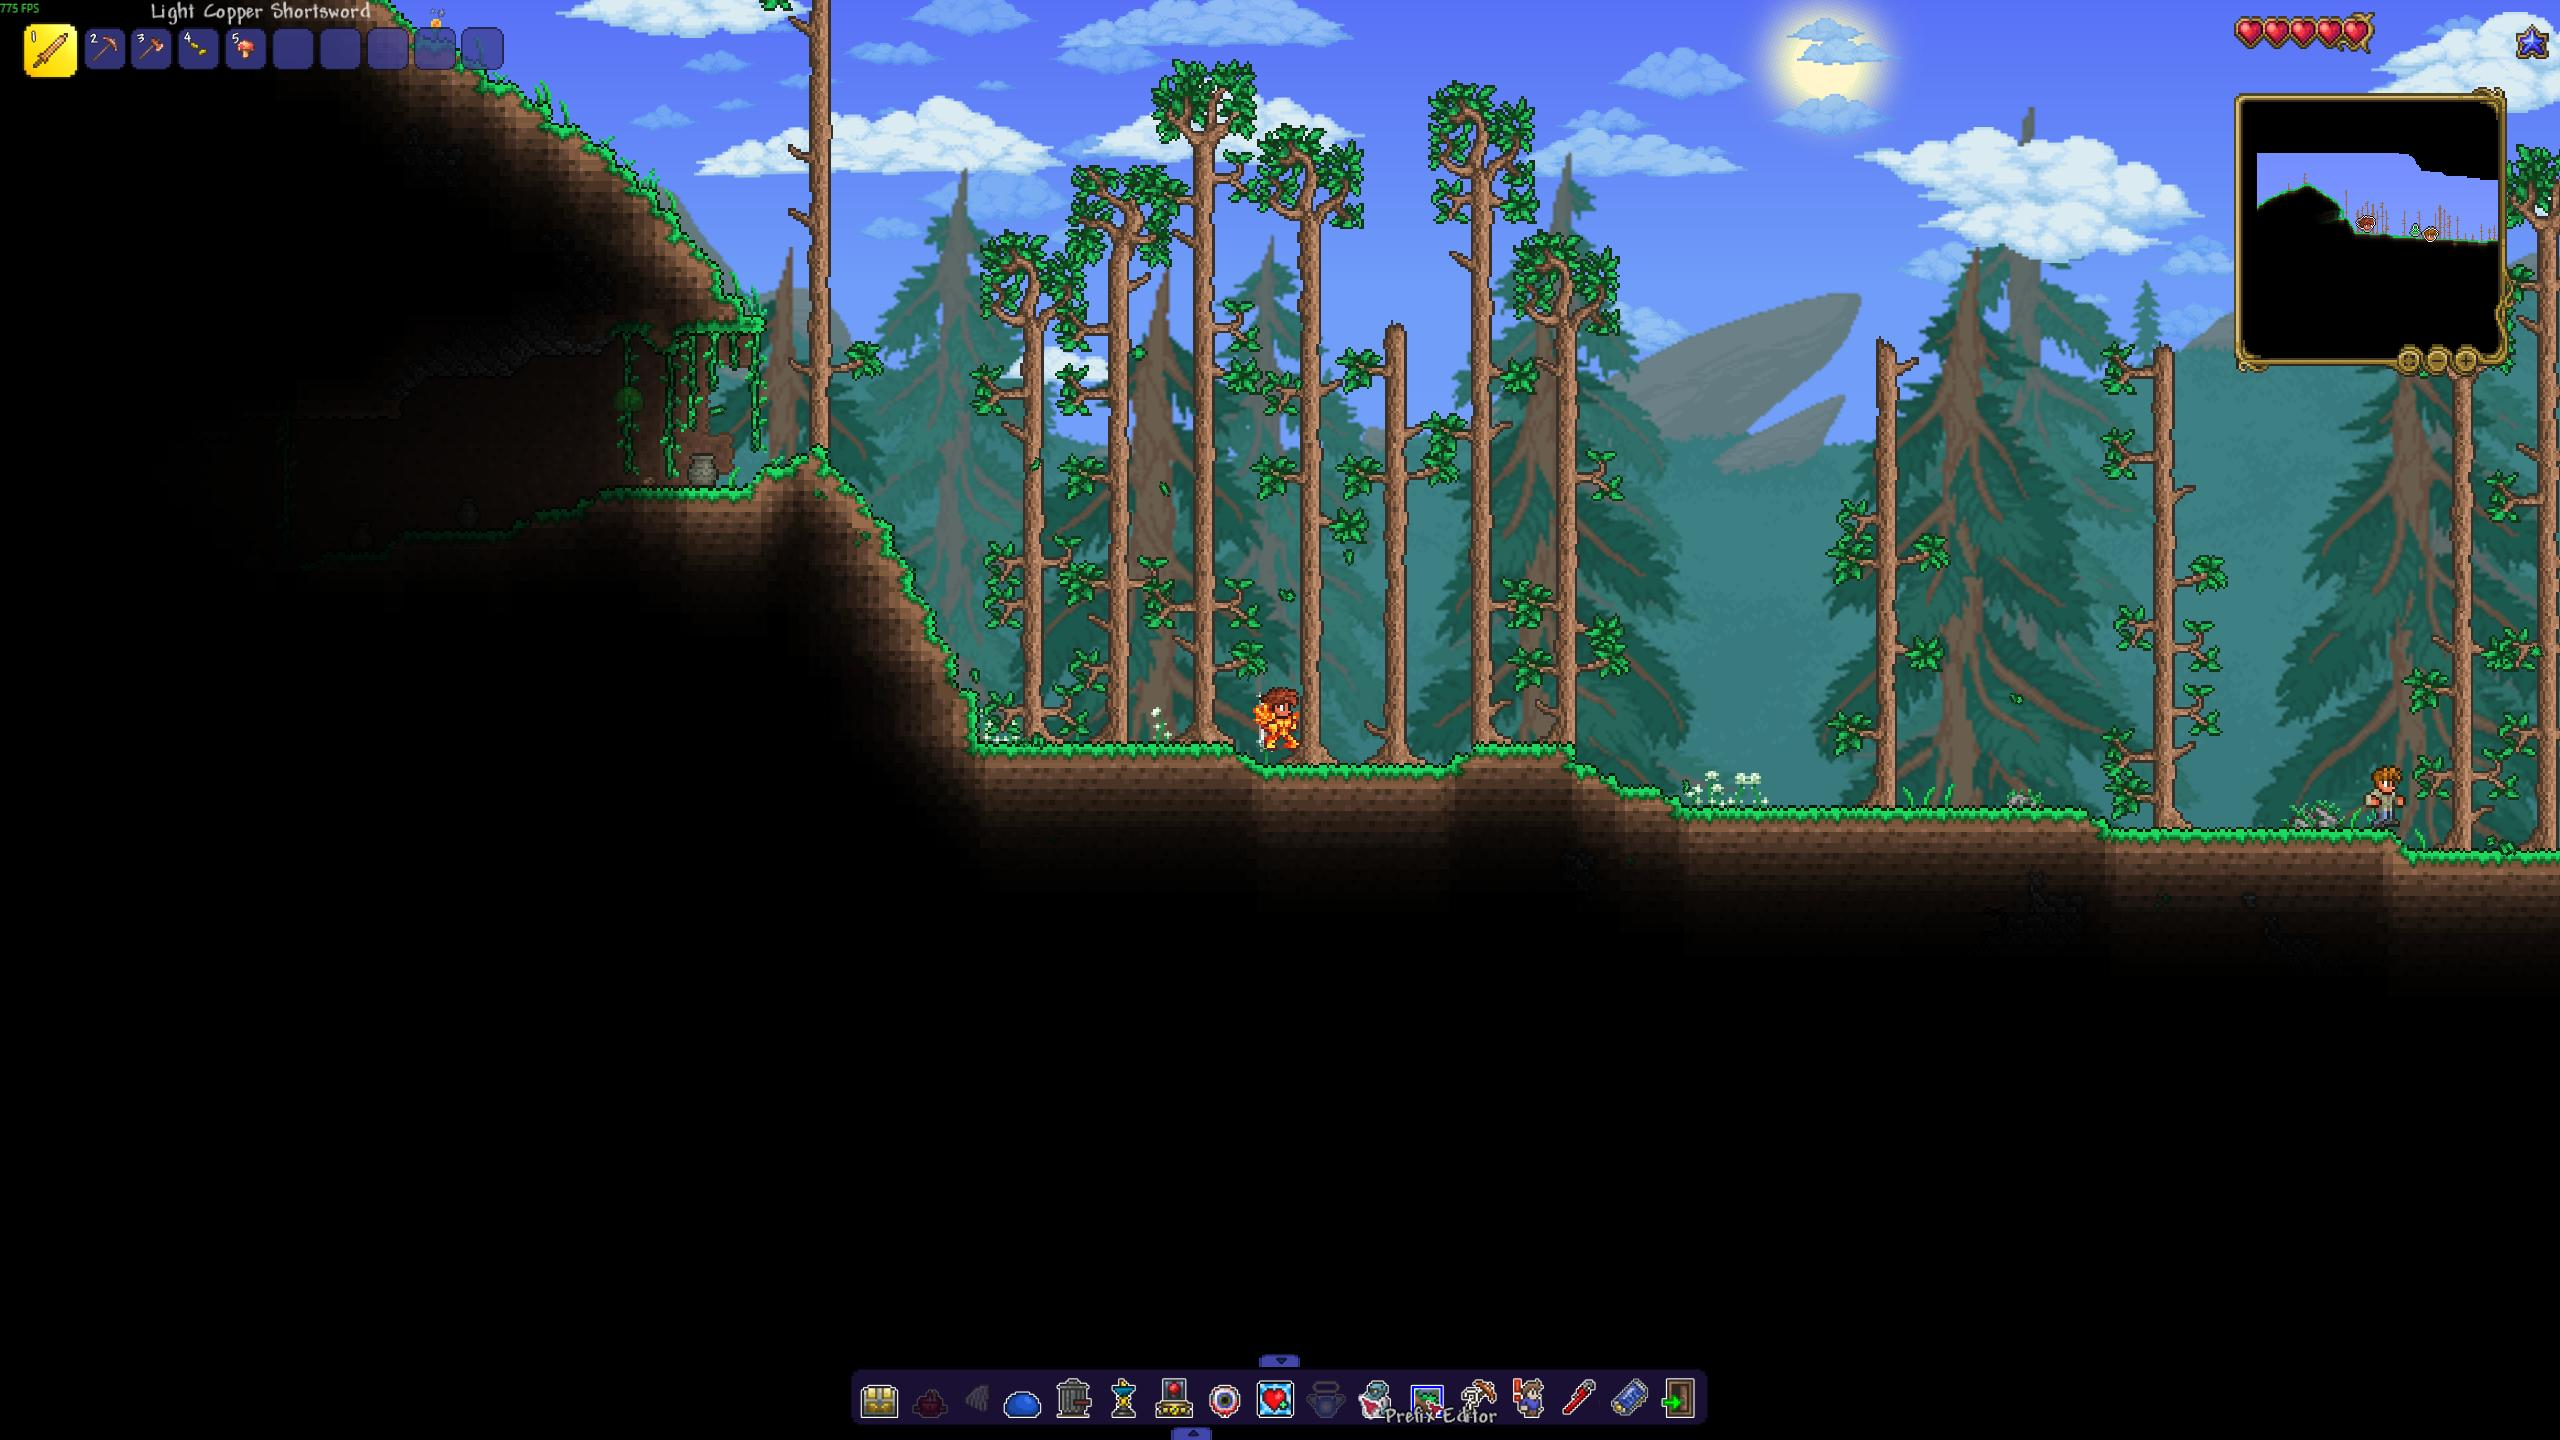Green Slime: (610, 382, 645, 413)
